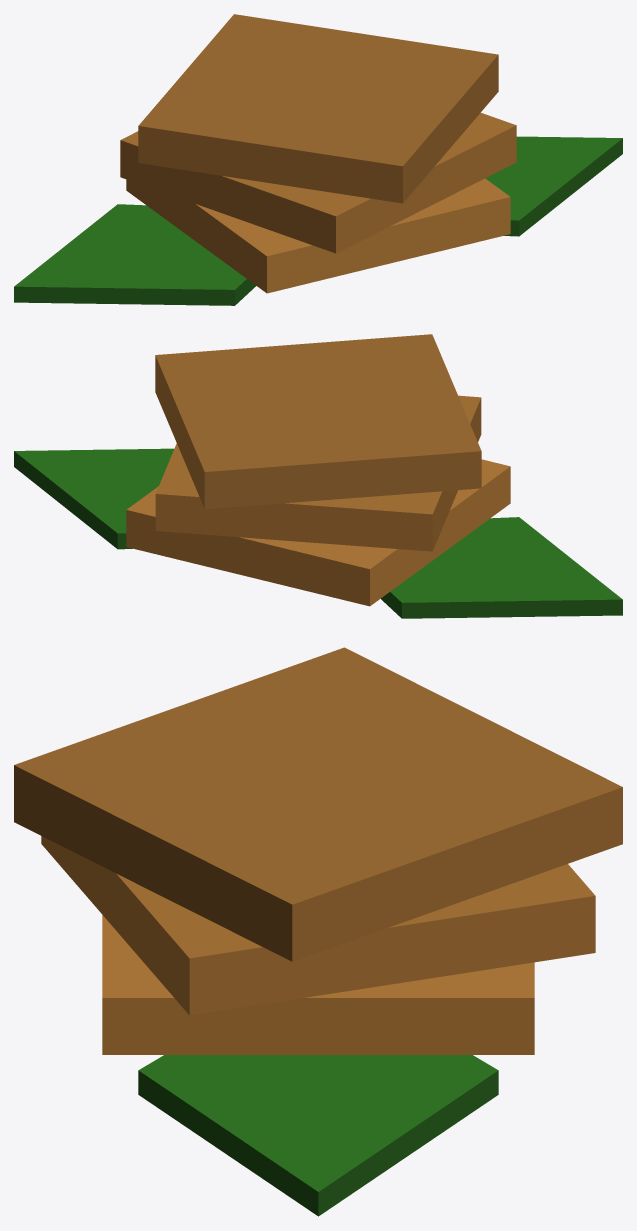
Rendered from waybread.glb.
3 views of the same model, one above another, from view 1: azimuth 30°, elevation 25°; view 2: azimuth 150°, elevation 25°; view 3: azimuth 270°, elevation 25° (orthographic). The views are drawn at different scales.
Visible parts, largest first — view 1: waybread; view 2: waybread; view 3: waybread.
Boxes of the visible parts, box(x1,y1,x2,y2) form: waybread: box(14, 14, 622, 305); waybread: box(14, 334, 622, 618); waybread: box(14, 647, 622, 1216).
Bounding box in the file's own units: 0.75 × 0.1625 × 0.4227.
